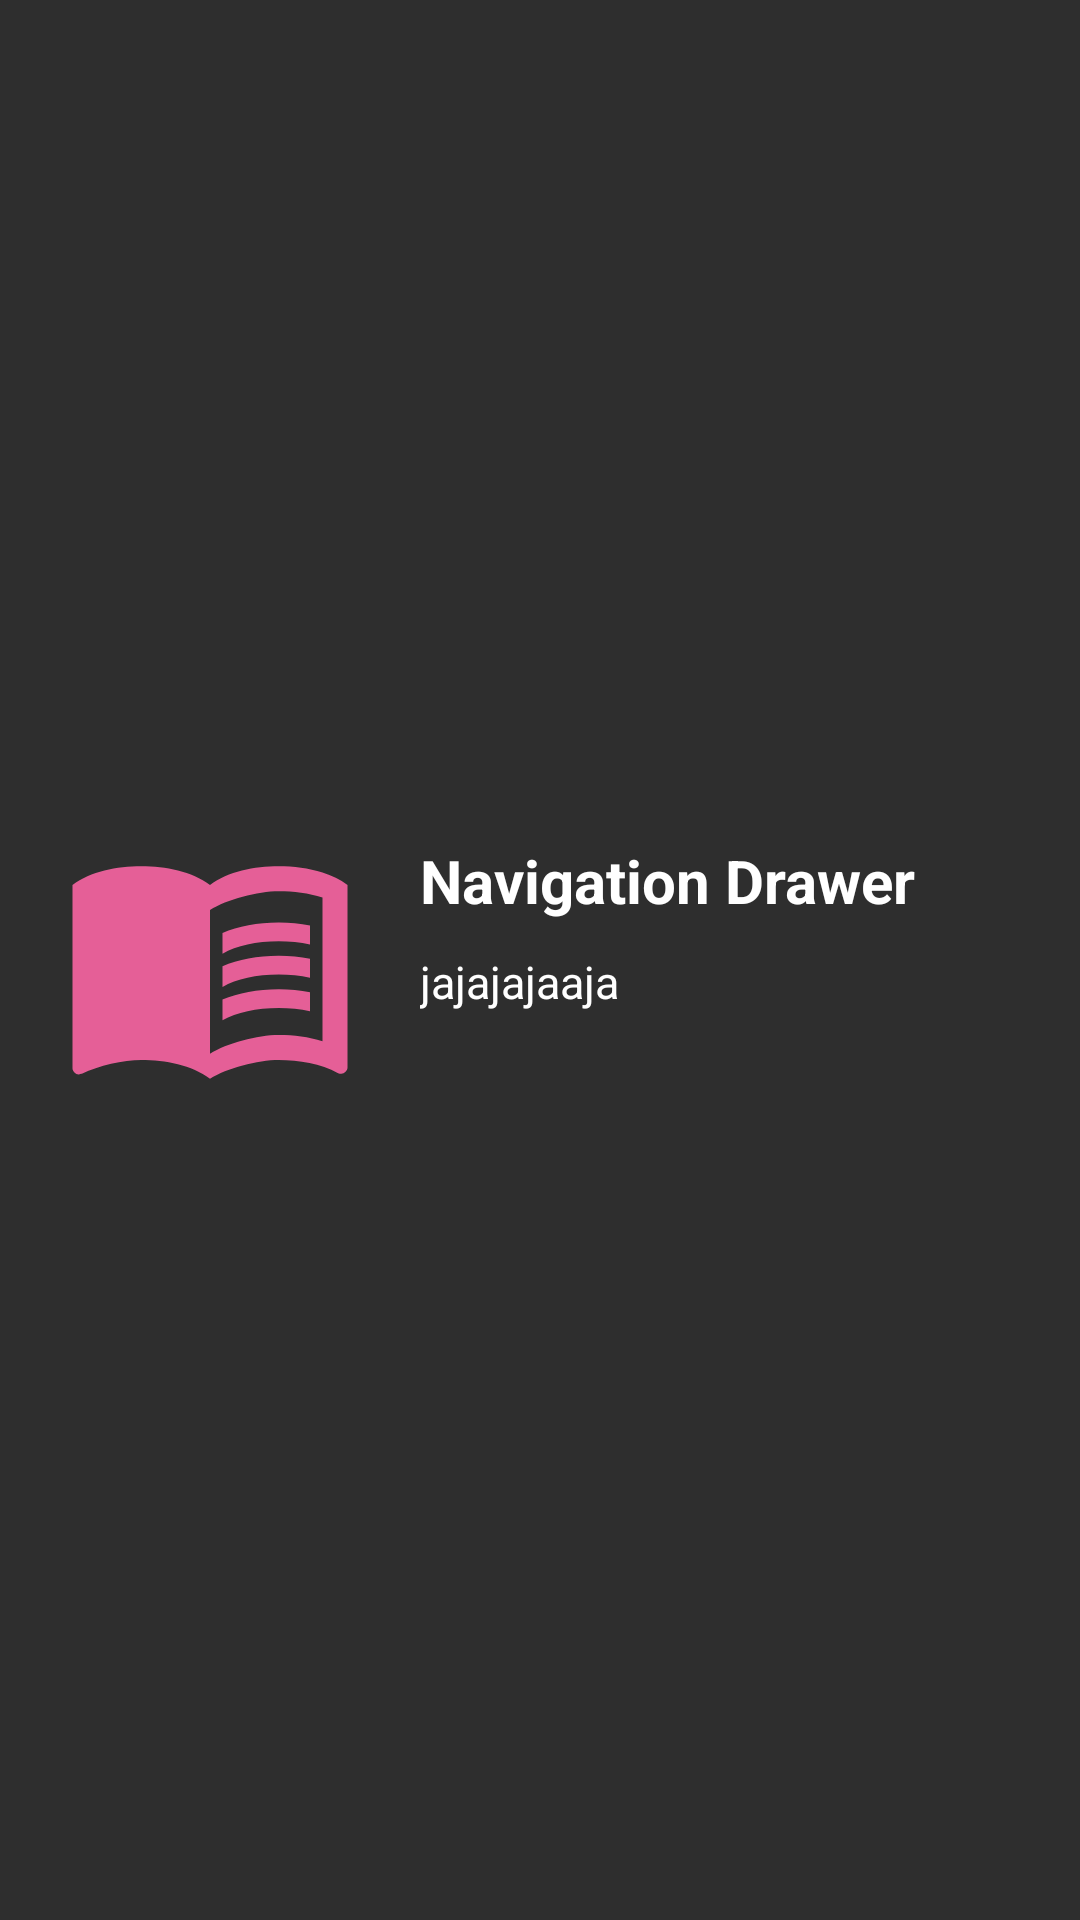

Icons on this 1080 × 1920 Android screen, each with its box as (x1, y1, x2, y2):
book: (72, 866, 348, 1079)
